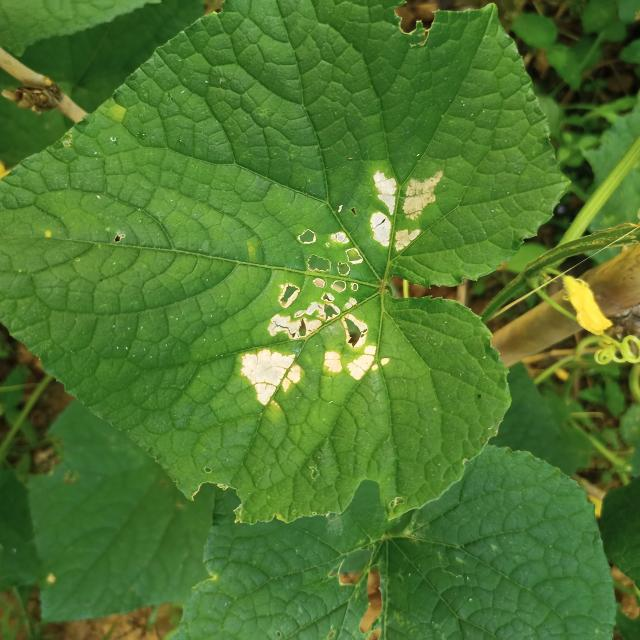disease_cucumber: (232, 224, 392, 410), (363, 165, 445, 258)
